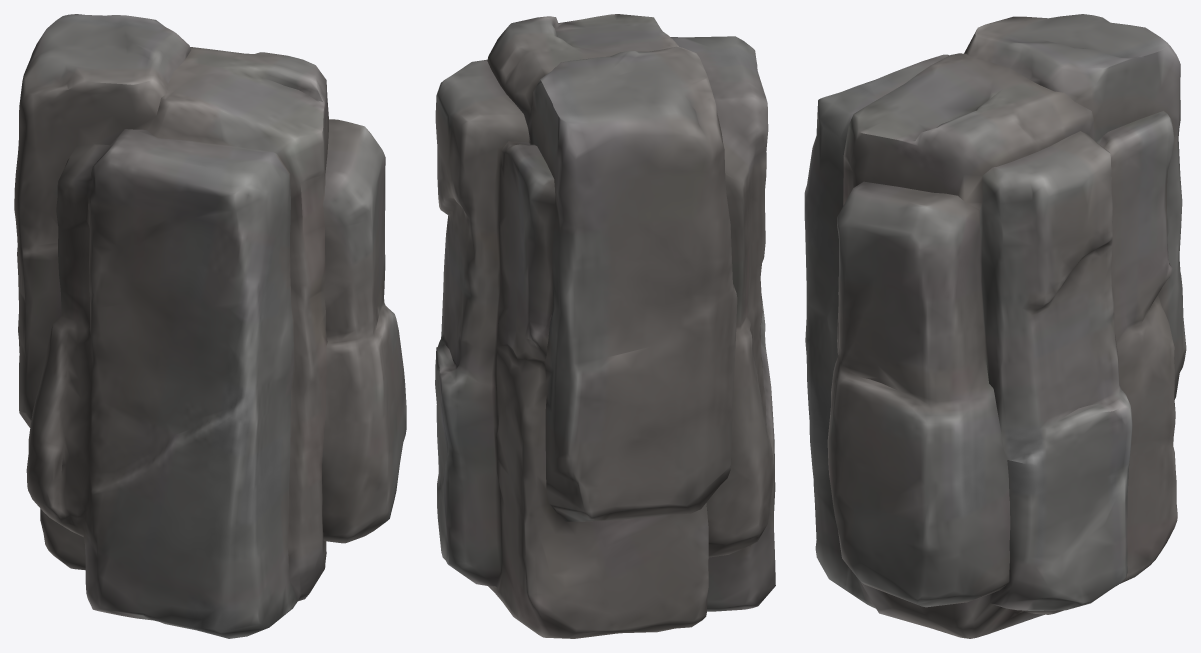
Rendered from SM_Vertical_Cliff_02.glb.
3 renders of one model, left to right at view 1: azimuth 30°, elevation 25°; view 2: azimuth 150°, elevation 25°; view 3: azimuth 270°, elevation 25°, orthographic. The views are drawn at different scales.
Visible parts, largest first — view 1: SM_Vertical_Cliff_02; view 2: SM_Vertical_Cliff_02; view 3: SM_Vertical_Cliff_02.
Part boxes in pixels (x1,y1,x2,y2): SM_Vertical_Cliff_02: [14, 14, 406, 638]; SM_Vertical_Cliff_02: [435, 14, 775, 638]; SM_Vertical_Cliff_02: [804, 14, 1186, 638].
Bounding box in the file's own units: 2.21 × 3.33 × 2.14.
1 material, 1 textured.
